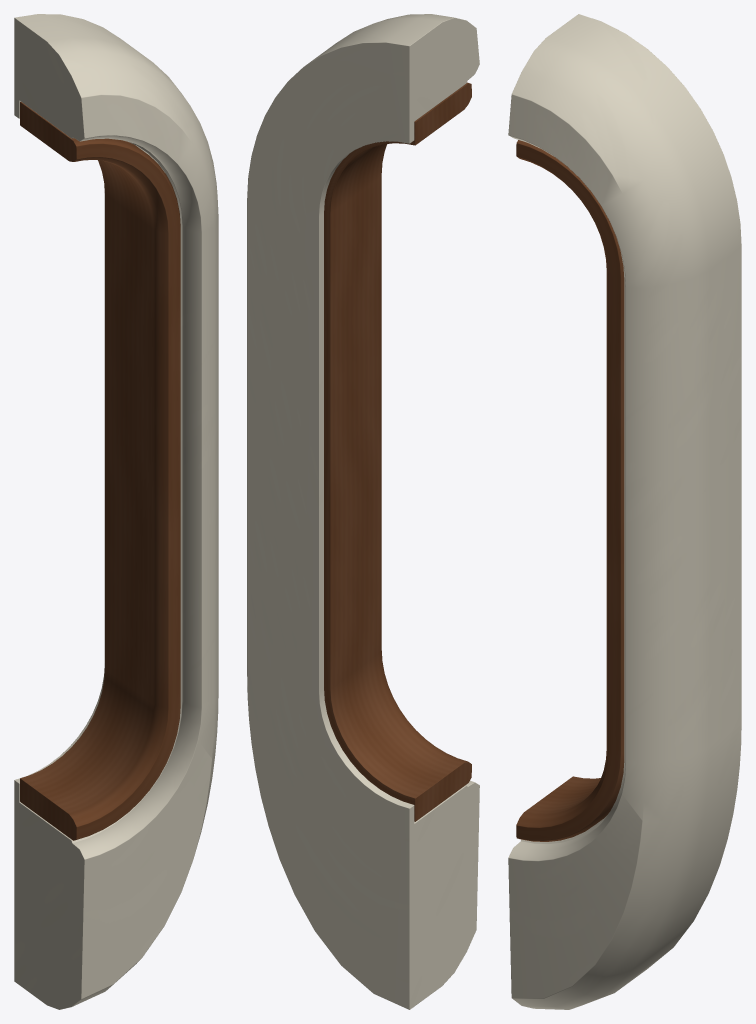
The model's file is AST-VR-01-J.glb.
3 views of the same model, side by side, from view 1: azimuth 30°, elevation 25°; view 2: azimuth 150°, elevation 25°; view 3: azimuth 330°, elevation 25° (orthographic).
Visible parts, largest first — view 1: ASTRAEA_runtime_ivory_enamel, ASTRAEA_runtime_warm_walnut; view 2: ASTRAEA_runtime_ivory_enamel, ASTRAEA_runtime_warm_walnut; view 3: ASTRAEA_runtime_ivory_enamel, ASTRAEA_runtime_warm_walnut.
Boxes of the visible parts, left/top/right/bottom form: ASTRAEA_runtime_ivory_enamel: left=14, top=14, right=218, bottom=1009; ASTRAEA_runtime_warm_walnut: left=20, top=102, right=180, bottom=840; ASTRAEA_runtime_ivory_enamel: left=247, top=14, right=479, bottom=1009; ASTRAEA_runtime_warm_walnut: left=324, top=82, right=471, bottom=821; ASTRAEA_runtime_ivory_enamel: left=508, top=14, right=741, bottom=1009; ASTRAEA_runtime_warm_walnut: left=516, top=140, right=624, bottom=841.
Size of the model in its own units: 0.574 by 3.25 by 0.4299.
Materials: 2 (2 with a texture image).
